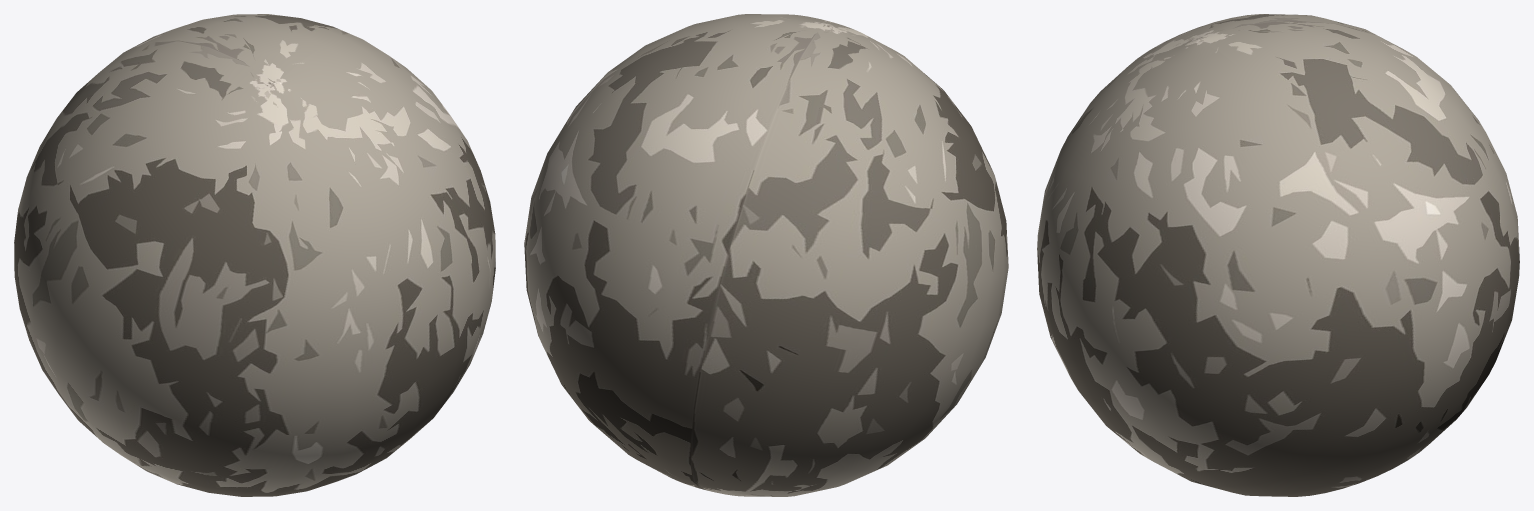
The model's file is mercury.glb.
The picture shows the model from 3 angles, left to right: view 1: azimuth 30°, elevation 25°; view 2: azimuth 150°, elevation 25°; view 3: azimuth 270°, elevation 25°; orthographic projection.
Visible parts, largest first — view 1: Mercury; view 2: Mercury; view 3: Mercury.
Boxes of the visible parts, bbox=[...] form: Mercury: bbox=[14, 14, 495, 496]; Mercury: bbox=[524, 14, 1008, 496]; Mercury: bbox=[1037, 14, 1519, 496].
Bounding box in the file's own units: 0.4267 × 0.4295 × 0.4281.
1 material, 1 textured.
